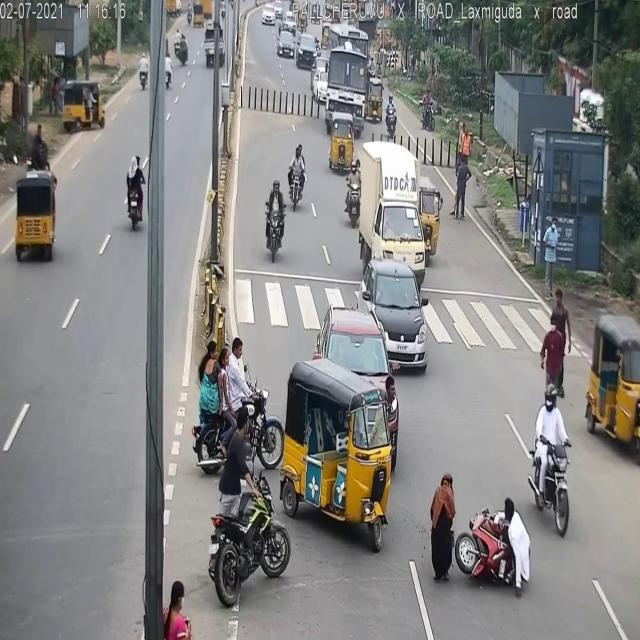accident: (415, 468, 540, 604)
non_accident: (343, 132, 439, 380), (302, 44, 416, 168), (270, 24, 318, 68), (187, 0, 215, 35)
